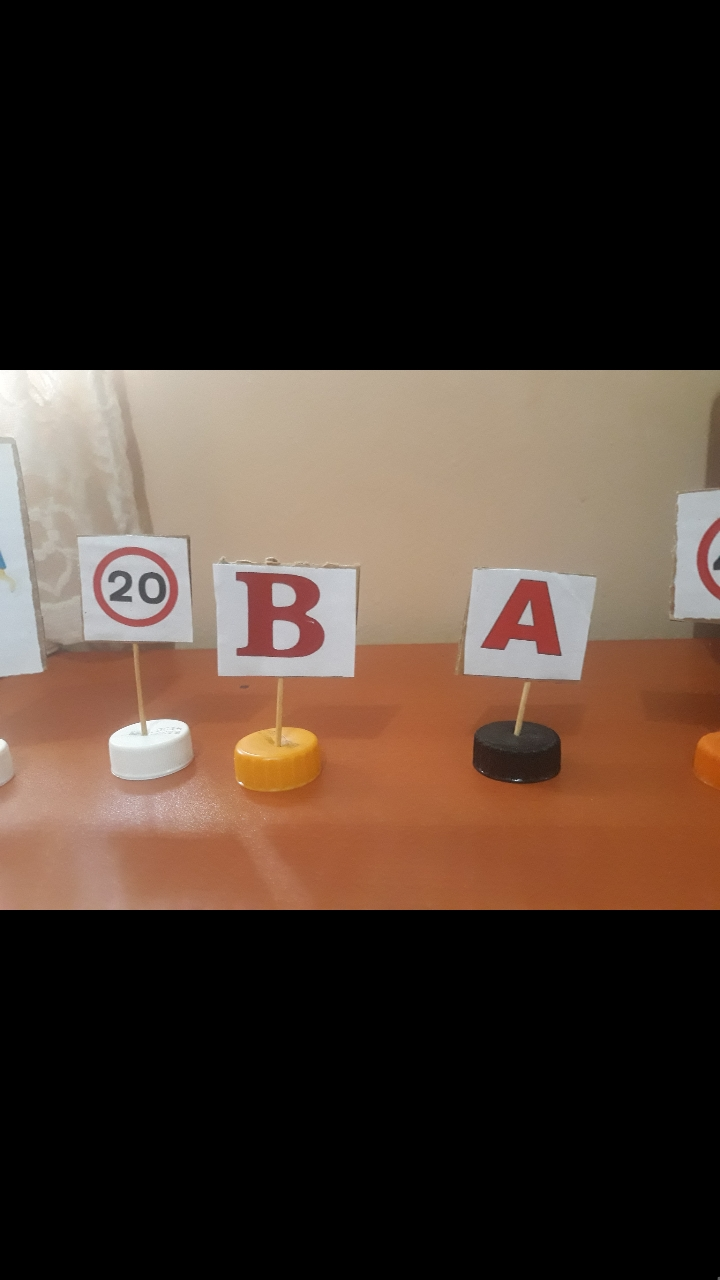20 kph: (79, 535, 185, 635)
zone A: (477, 563, 587, 682)
zone B: (224, 557, 344, 674)
